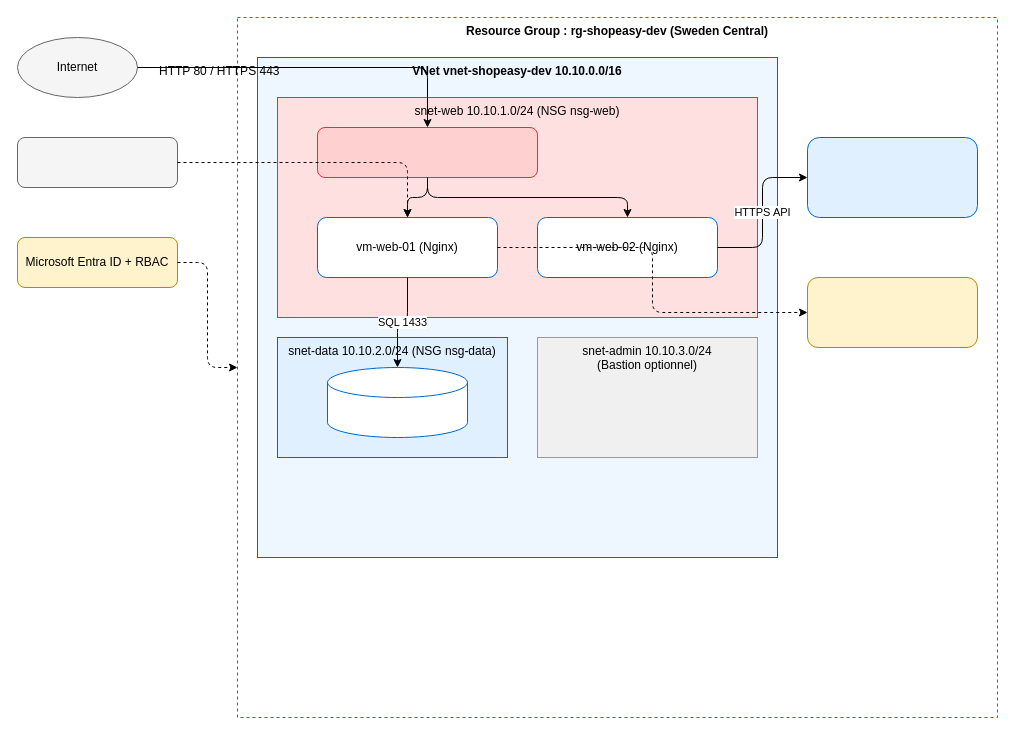
The diagram is 1015 pixels wide and 735 high, and some of its shapes have lost their labels. Each missing label, with the centre of its shape:
Administrateur (IP autorisee): (97,162)
Azure Load Balancer (Standard, sonde HTTP:80): (427,152)
Azure Monitor metriques + alertes: (892,312)
Azure SQL Database sqldb-shopeasy: (397,402)
Storage Account stshopeasyXXXX Blobs: factures / clients / archives: (892,177)
